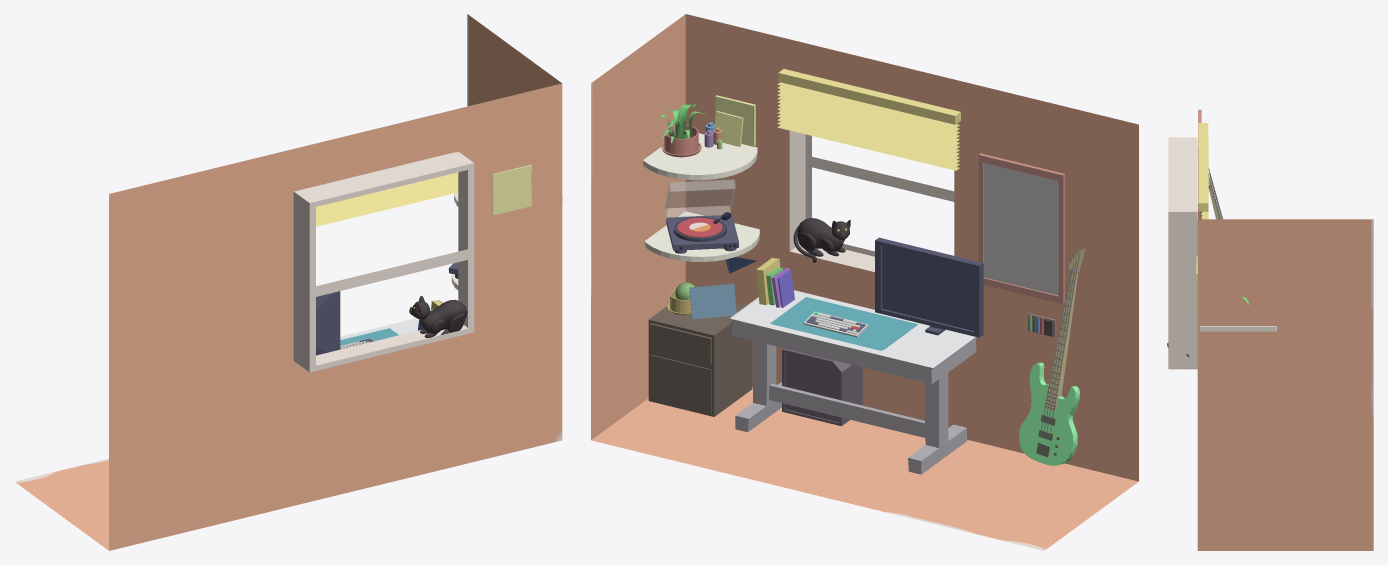
File: pvl.glb
The picture shows the model from 3 angles, left to right: view 1: azimuth 30°, elevation 25°; view 2: azimuth 150°, elevation 25°; view 3: azimuth 270°, elevation 25°; orthographic projection. The views are drawn at different scales.
Parts seen in each view (by area): view 1: Cube.002, Blinds, shelf-1.313, monitor, Sphere.006, Desk; view 2: Cube.002, Desk, Cube.001, Blinds, cactus, monitor, shelf-1.313, record-shelf, Bass, education, Sphere.006, record; view 3: Cube.002, Blinds, shelf-1.313, Bass.
Boxes of the visible parts, x1,y1,x2,y2 form: Cube.002: (14,14,562,550); Blinds: (316,172,458,226); shelf-1.313: (454,164,562,215); monitor: (316,291,340,355); Sphere.006: (420,299,467,337); Desk: (340,300,442,349); Cube.002: (591,14,1138,550); Desk: (729,257,976,474); Cube.001: (978,153,1064,303); Blinds: (777,69,960,170); cactus: (648,282,752,416); monitor: (875,237,983,337); shelf-1.313: (643,95,757,180); record-shelf: (644,179,759,261); Bass: (1019,248,1084,465); education: (689,257,756,319); Sphere.006: (797,218,845,256); record: (677,217,722,237); Cube.002: (1168,137,1373,550); Blinds: (1198,123,1208,219); shelf-1.313: (1196,256,1276,331); Bass: (1208,168,1222,219).
Bounding box in the file's own units: 17.78 × 13.18 × 7.43.
53 materials, 52 textured.
